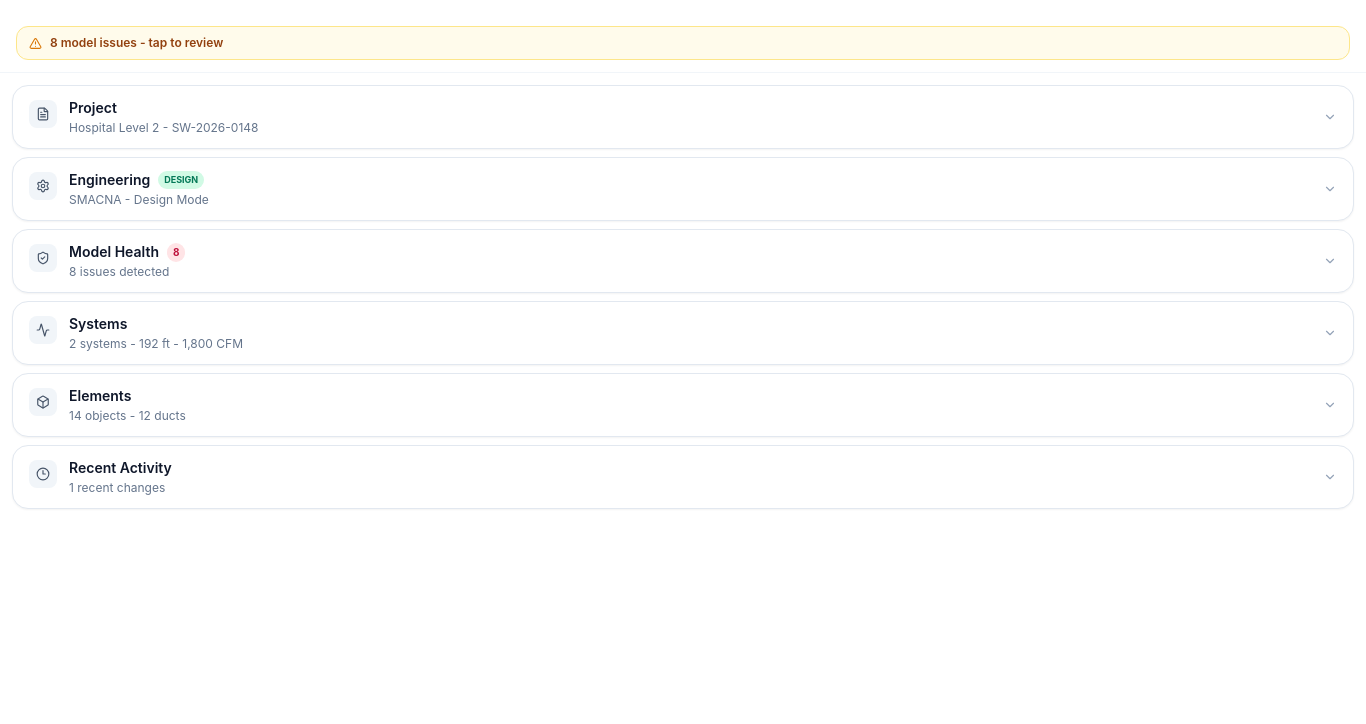
Scenario: InspectorOverviewPanel › opens Model Health when clicking the amber health banner
This screenshot has width=1366, height=724.
Click the button "8 model issues - tap to review" at coordinates (140, 42), box [16,26,1350,60]
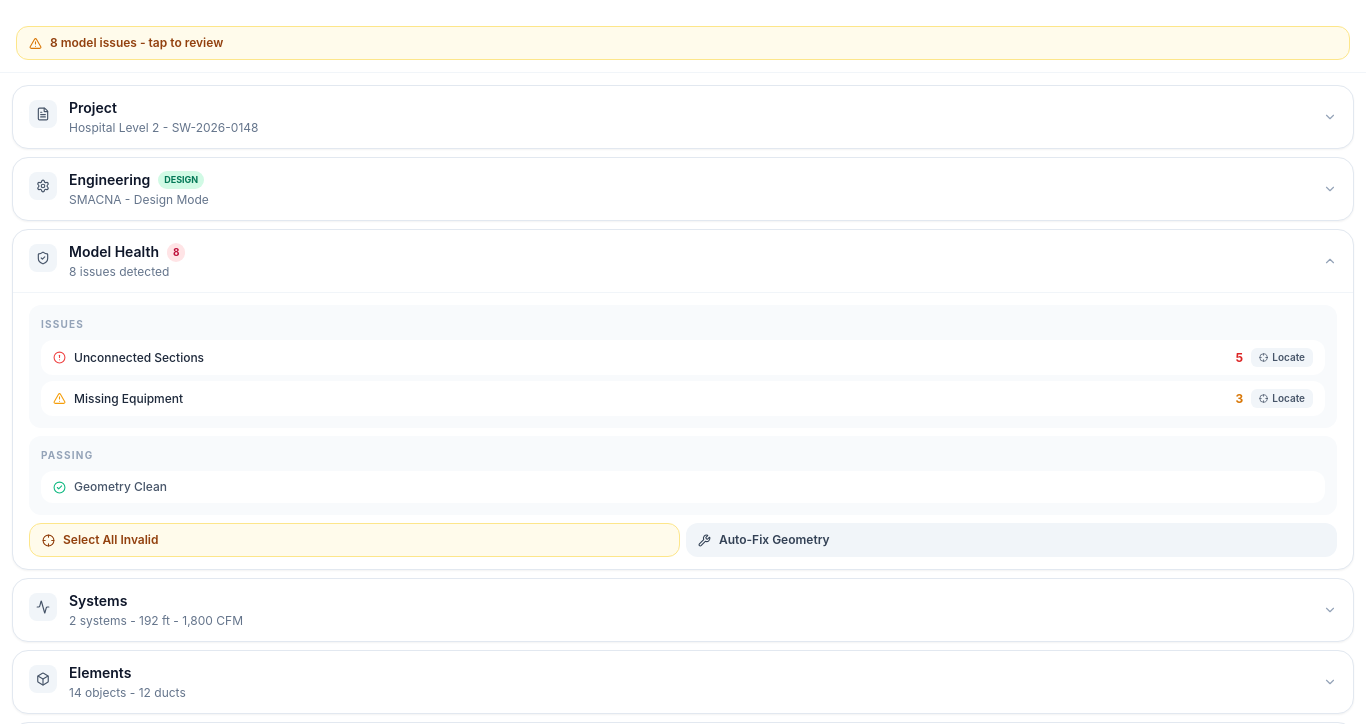
Check: the button "Model Health 8 8 issues detected" is expanded, box [13,230,1353,292]
